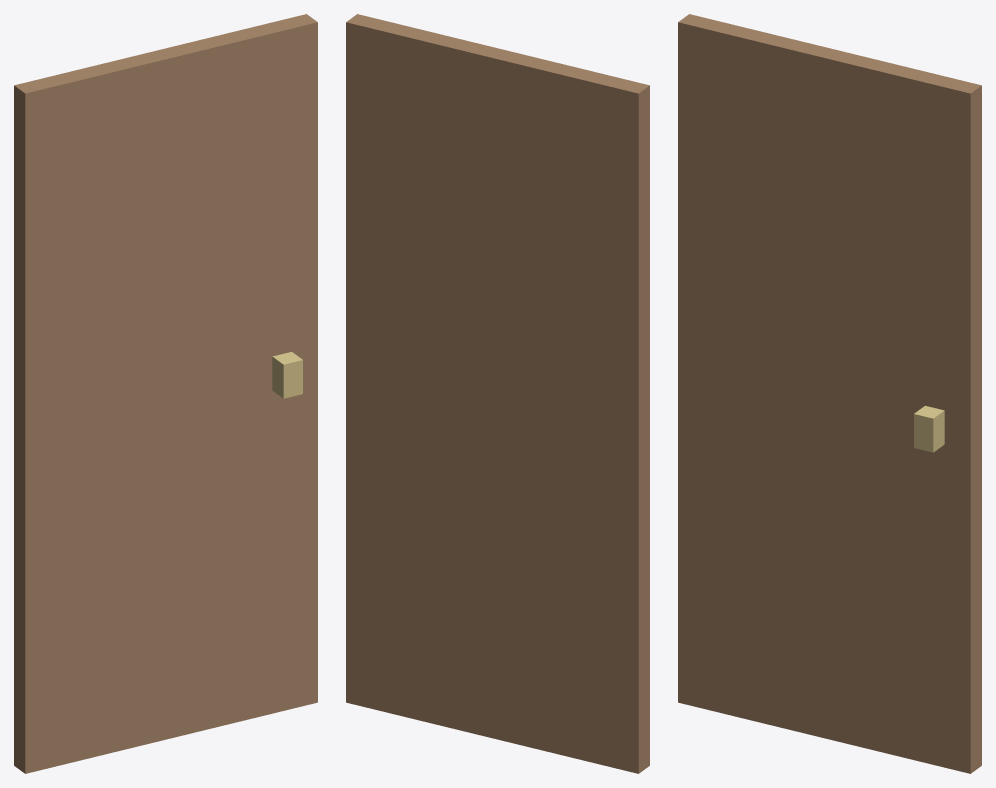
Rendered from Door.glb.
The picture shows the model from 3 angles, left to right: view 1: azimuth 30°, elevation 25°; view 2: azimuth 150°, elevation 25°; view 3: azimuth 330°, elevation 25°; orthographic projection.
Visible parts, largest first — view 1: Door; view 2: Door; view 3: Door.
Boxes of the visible parts, left/top/right/bottom form: Door: left=14, top=14, right=317, bottom=773; Door: left=346, top=14, right=649, bottom=773; Door: left=678, top=14, right=981, bottom=773.
Bounding box in the file's own units: 0.9 × 2 × 0.12.
